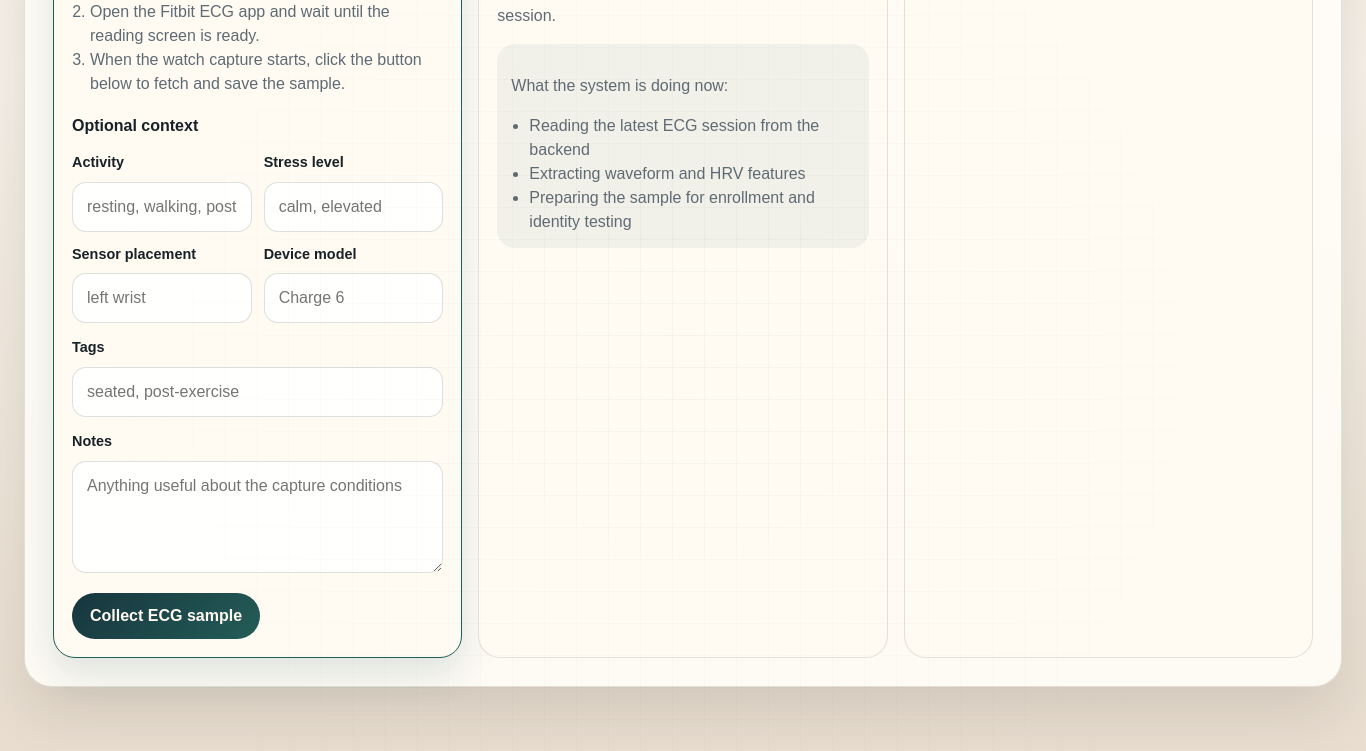
Test: EnrollmentWizard › shows collection error banner when capture fails
(page scrolled)
What coordinates should you click on to do the following:
click the button "Collect ECG sample"
I would click on:
 (166, 616)
Its box is [72, 593, 260, 639].
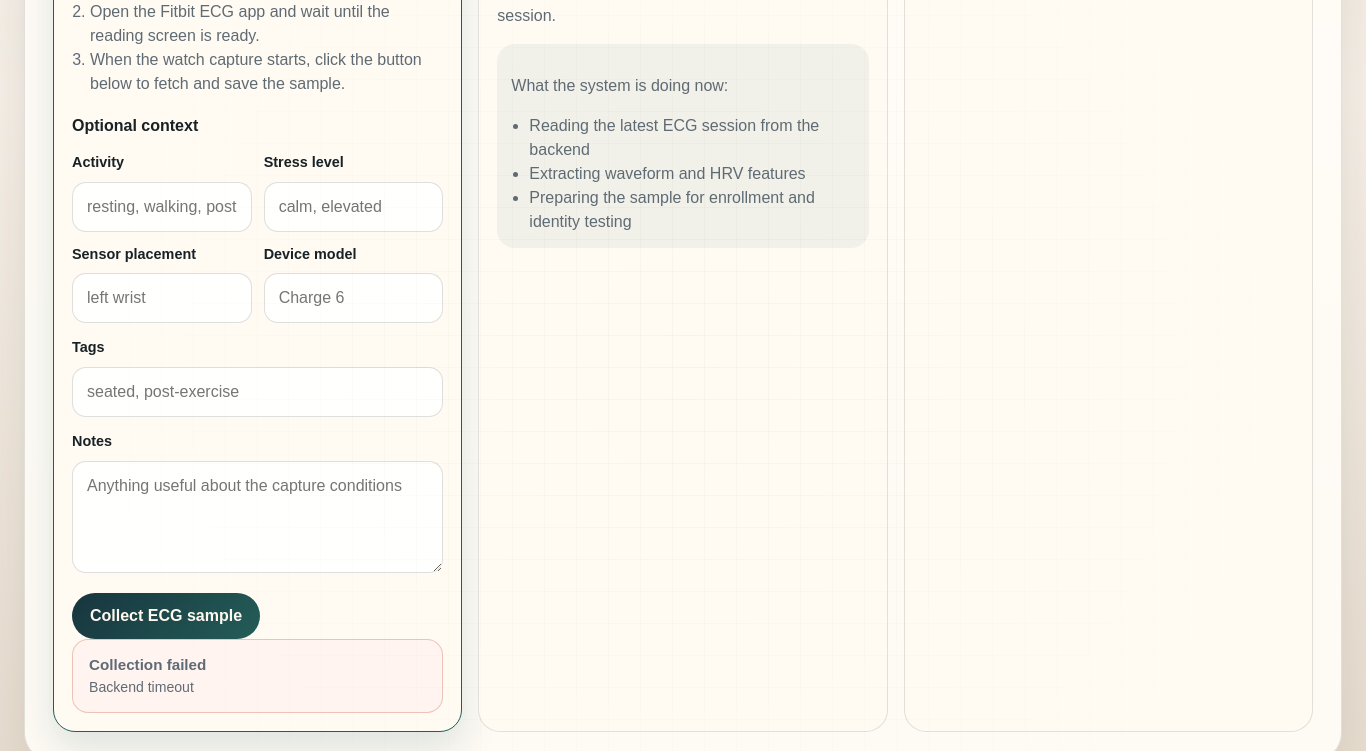
Result: the text "Collection failed" is shown at [89, 654, 206, 676]
Result: the text "Backend timeout" is shown at [89, 676, 206, 698]
